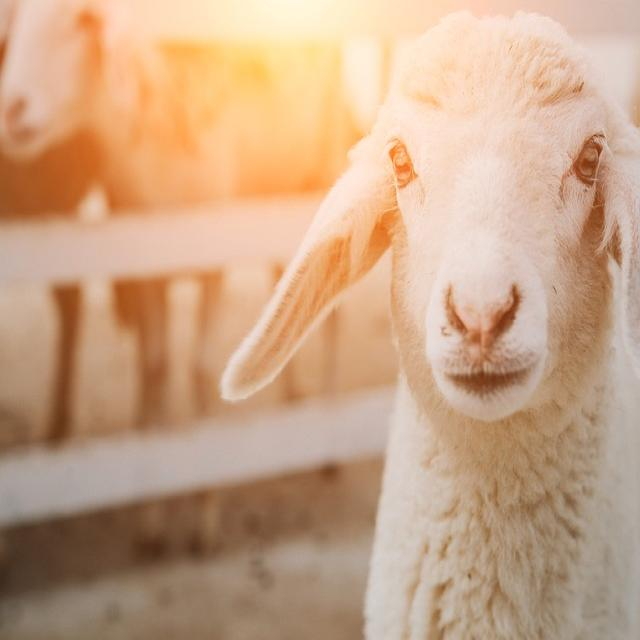goat: (221, 15, 640, 636)
